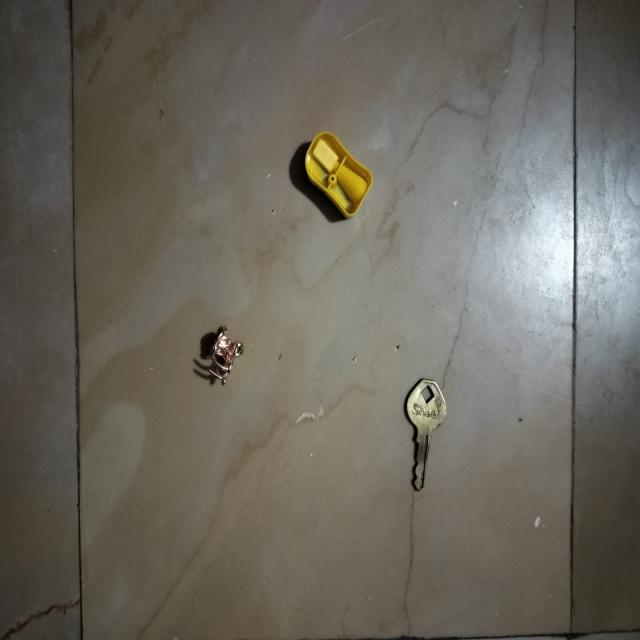dry: (304, 131, 374, 221), (404, 376, 448, 492), (207, 323, 245, 386)
